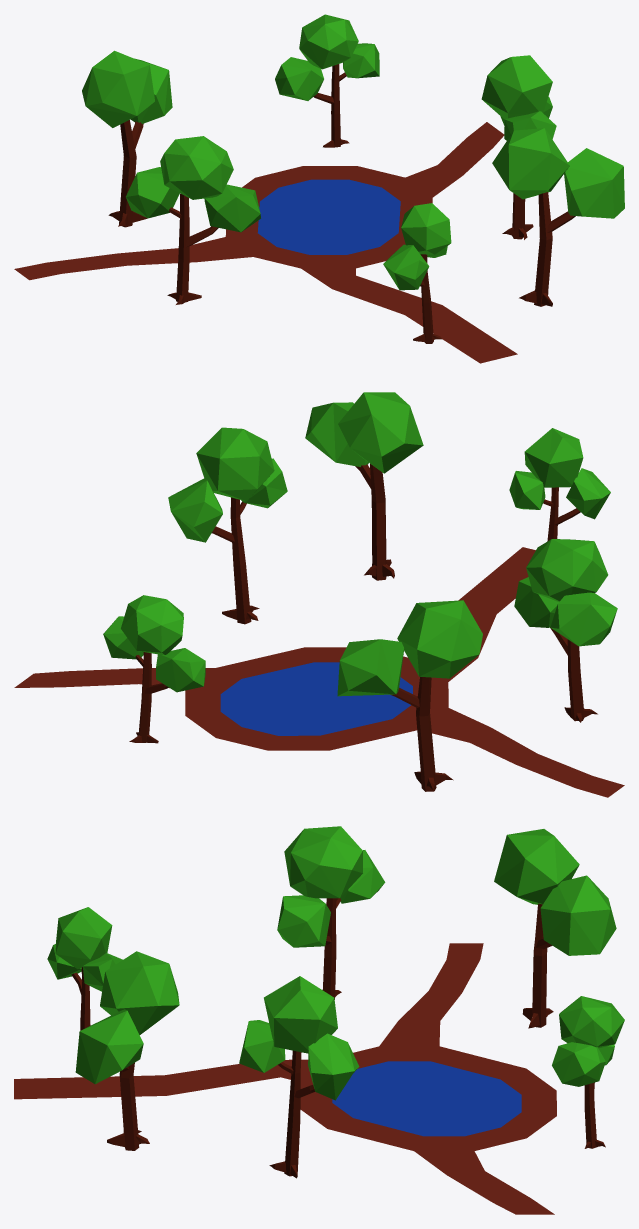
File: Park.obj
The picture shows the model from 3 angles, top to bottom: view 1: azimuth 30°, elevation 25°; view 2: azimuth 150°, elevation 25°; view 3: azimuth 270°, elevation 25°; orthographic projection. The views are drawn at different scales.
Parts seen in each view (by area): view 1: Path_Plane.001, tree02_Cylinder.000, Water_Plane.003, tree01_Cylinder.006, tree02_Cylinder.002, tree01_Cylinder.000, tree03_Cylinder.003, tree03_Cylinder.000_tree03_Cylinder.001; view 2: Path_Plane.001, tree02_Cylinder.002, tree03_Cylinder.003, tree01_Cylinder.006, Water_Plane.003, tree02_Cylinder.000, tree01_Cylinder.000, tree03_Cylinder.000_tree03_Cylinder.001; view 3: Path_Plane.001, Water_Plane.003, tree02_Cylinder.002, tree03_Cylinder.003, tree02_Cylinder.000, tree01_Cylinder.006, tree01_Cylinder.000, tree03_Cylinder.000_tree03_Cylinder.001.
Boxes of the visible parts, x1,y1,x2,y2 form: Path_Plane.001: [14, 122, 517, 363]; tree02_Cylinder.000: [492, 128, 624, 306]; Water_Plane.003: [257, 179, 400, 254]; tree01_Cylinder.006: [126, 136, 260, 304]; tree02_Cylinder.002: [82, 50, 172, 227]; tree01_Cylinder.000: [275, 14, 379, 147]; tree03_Cylinder.003: [481, 55, 556, 239]; tree03_Cylinder.000_tree03_Cylinder.001: [383, 203, 451, 343]; Path_Plane.001: [14, 547, 624, 797]; tree02_Cylinder.002: [337, 600, 482, 791]; tree03_Cylinder.003: [168, 427, 287, 624]; tree01_Cylinder.006: [514, 539, 617, 722]; Water_Plane.003: [220, 662, 412, 735]; tree02_Cylinder.000: [305, 392, 423, 580]; tree01_Cylinder.000: [103, 595, 205, 743]; tree03_Cylinder.000_tree03_Cylinder.001: [509, 428, 610, 541]; Path_Plane.001: [14, 943, 556, 1214]; Water_Plane.003: [332, 1061, 521, 1136]; tree02_Cylinder.002: [494, 829, 616, 1028]; tree03_Cylinder.003: [239, 976, 359, 1178]; tree02_Cylinder.000: [75, 951, 179, 1150]; tree01_Cylinder.006: [277, 826, 385, 999]; tree01_Cylinder.000: [552, 996, 624, 1148]; tree03_Cylinder.000_tree03_Cylinder.001: [47, 907, 122, 1030].
Size of the model in its own units: 1.98 by 0.6721 by 1.89.
